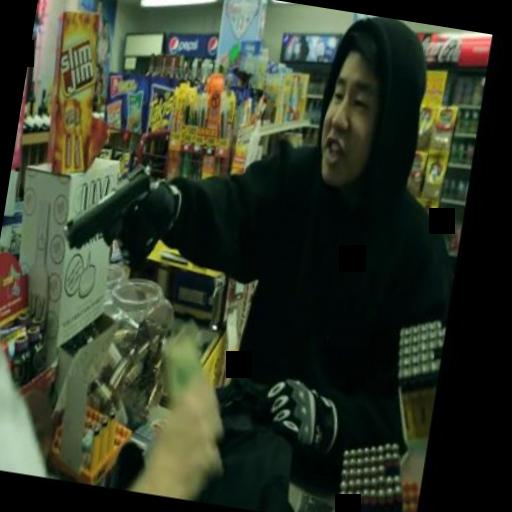Handgun: (60, 150, 172, 264)
